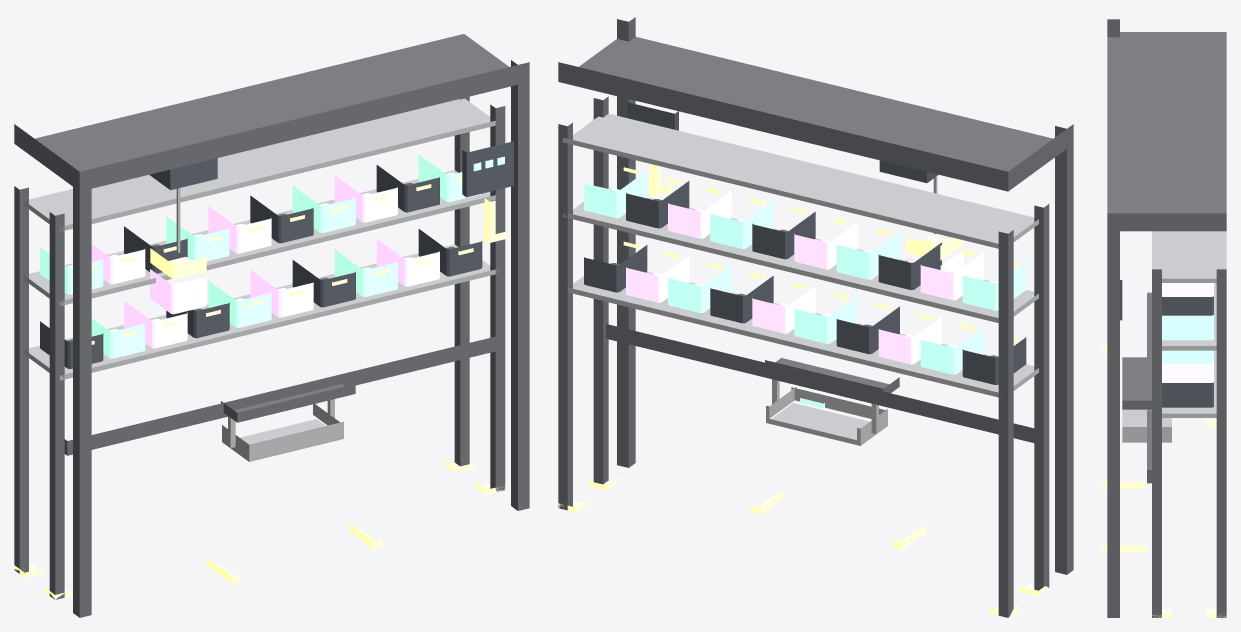
The model's file is iter_04.glb.
3 views of the same model, side by side, from view 1: azimuth 30°, elevation 25°; view 2: azimuth 150°, elevation 25°; view 3: azimuth 270°, elevation 25° (orthographic). The views are drawn at different scales.
Visible parts, largest first — view 1: Gantry_Beam, Rack_Shelves, Posts, Gantry_Uprights, Bins_slate, Bins_green, Bins_violet, Funnel_Beam, Pick_Tray, Request_Panel, Drop_Funnel, Gripped_Bin (+4 smaller); view 2: Rack_Shelves, Gantry_Beam, Posts, Gantry_Uprights, Bins_green, Bins_slate, Bins_violet, Funnel_Beam, Pick_Tray, Bin_Latches, Drop_Funnel, Request_Panel (+2 smaller); view 3: Gantry_Beam, Posts, Gantry_Uprights, Rack_Shelves, Bins_slate, Bins_green, Bins_violet, Drop_Funnel, Pick_Tray, Funnel_Beam, Guide_Rails, Floor_Clamps.
Boxes of the visible parts, x1,y1,x2,y2 form: Gantry_Beam: (14,34,529,190); Rack_Shelves: (24,98,499,380); Posts: (14,96,505,599); Gantry_Uprights: (73,60,529,617); Bins_slate: (40,165,482,368); Bins_green: (40,154,481,358); Bins_violet: (91,175,439,348); Funnel_Beam: (64,336,498,455); Pick_Tray: (222,404,343,461); Request_Panel: (462,141,513,197); Drop_Funnel: (221,384,355,422); Gripped_Bin: (150,269,206,314); Rack_Shelves: (563,113,1038,398); Gantry_Beam: (558,37,1073,191); Posts: (558,96,1049,617); Gantry_Uprights: (617,17,1073,574); Bins_green: (584,170,1026,374); Bins_slate: (584,181,1026,384); Bins_violet: (626,191,983,364); Funnel_Beam: (606,324,1034,442); Pick_Tray: (766,387,887,445); Bin_Latches: (623,167,1017,340); Drop_Funnel: (765,358,899,393); Request_Panel: (627,102,678,130); Gantry_Beam: (1107,32,1226,231); Posts: (1152,269,1226,617); Gantry_Uprights: (1107,19,1119,617); Rack_Shelves: (1152,231,1226,417); Bins_slate: (1162,296,1213,407); Bins_green: (1162,315,1213,364); Bins_violet: (1162,283,1213,382); Drop_Funnel: (1122,357,1151,409); Pick_Tray: (1122,409,1171,442); Funnel_Beam: (1147,292,1151,483); Guide_Rails: (1102,482,1146,551); Floor_Clamps: (1152,418,1226,617).
Size of the model in its own units: 1.9 by 1.8 by 0.5.
